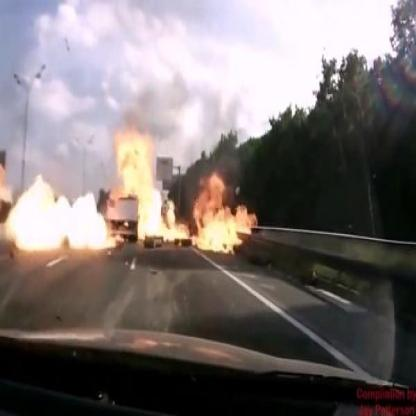fire: (114, 112, 191, 252), (2, 170, 113, 265), (193, 163, 258, 259)
